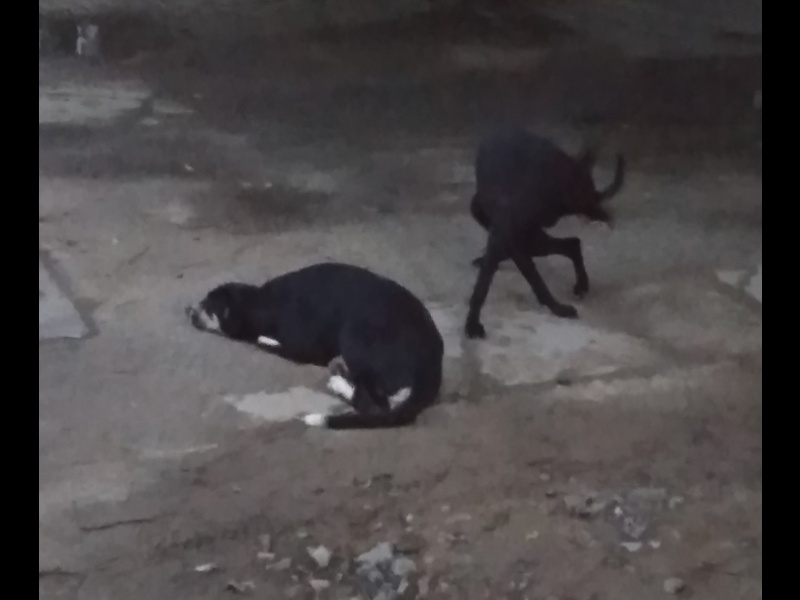dog: (186, 259, 444, 433), (461, 123, 629, 342)
